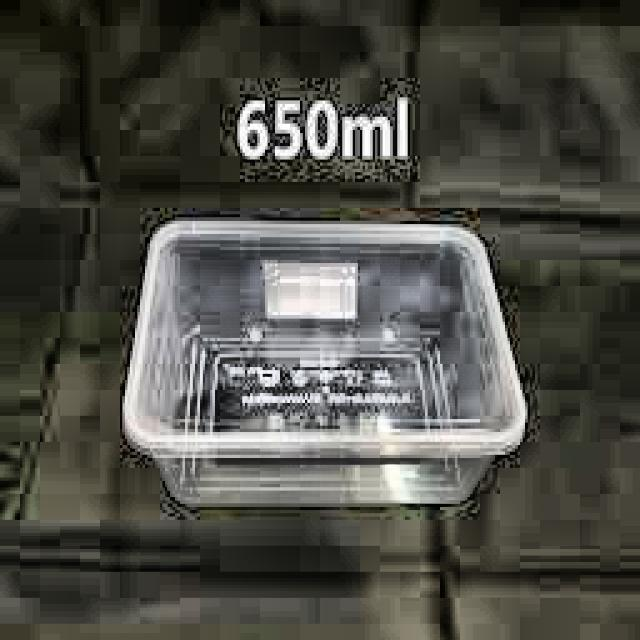plastic container: (126, 224, 526, 505)
